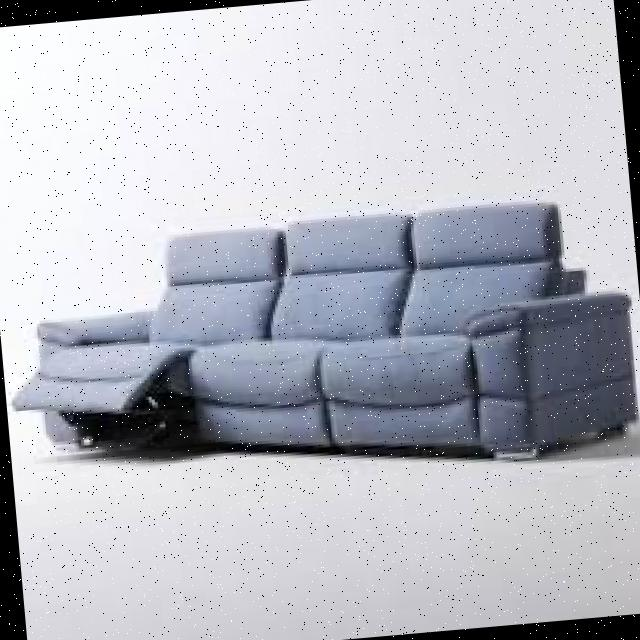Sofa: (3, 153, 640, 536)
